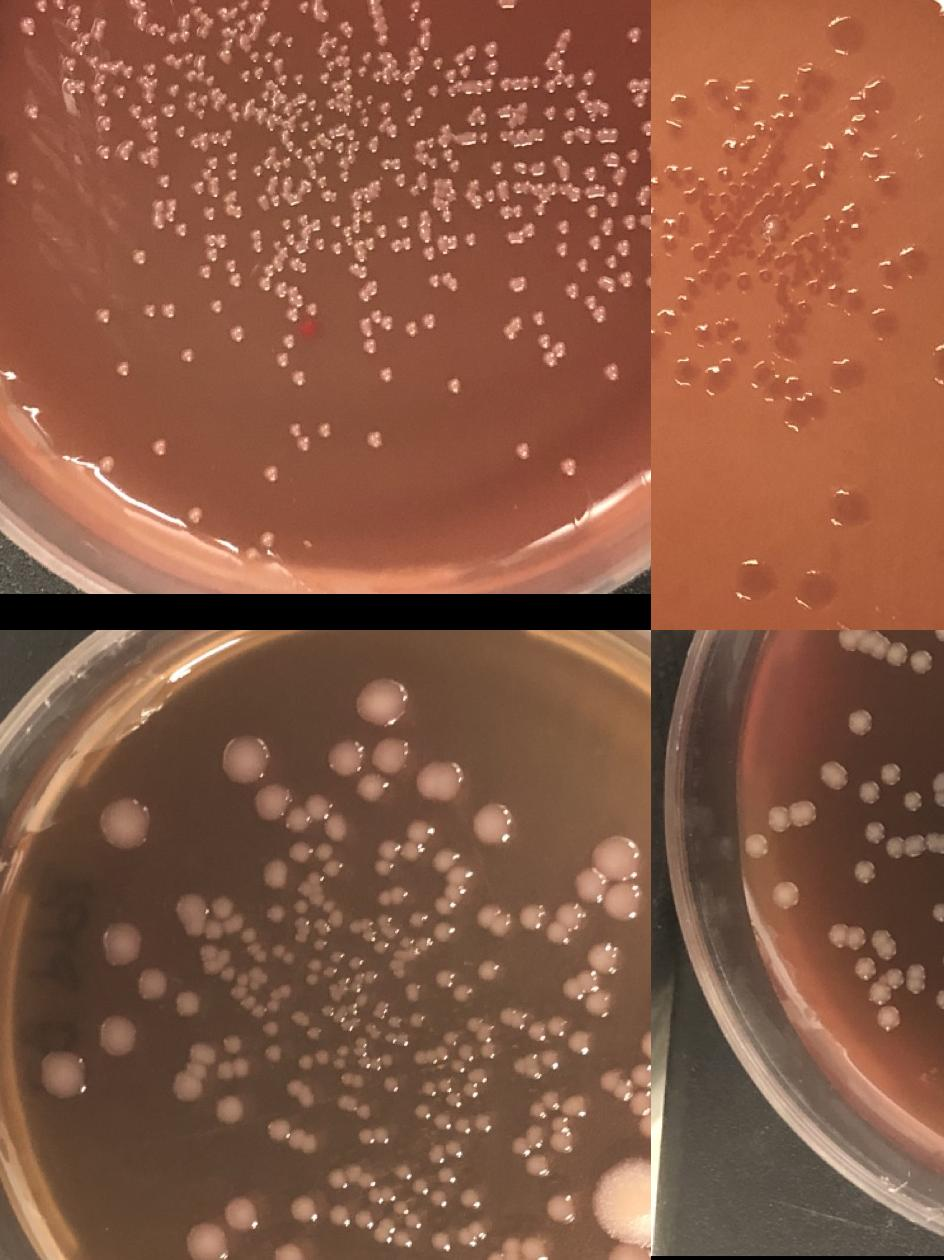assalmonicida: (528, 58, 576, 94), (858, 763, 900, 804), (443, 46, 476, 98), (216, 0, 266, 32), (208, 88, 240, 123), (826, 924, 868, 950), (366, 0, 389, 47), (272, 140, 304, 173), (435, 134, 461, 174), (244, 49, 286, 72), (162, 50, 206, 71), (150, 198, 178, 230), (907, 647, 935, 678), (846, 708, 874, 738), (772, 881, 799, 912), (202, 233, 230, 262), (306, 126, 338, 150), (166, 16, 192, 45), (626, 77, 651, 107), (184, 89, 208, 120), (850, 858, 878, 884), (88, 70, 108, 106), (194, 10, 216, 40), (352, 237, 376, 263), (468, 189, 496, 210), (542, 342, 566, 366), (459, 78, 495, 94), (426, 272, 458, 290), (875, 938, 899, 962), (901, 834, 925, 857), (744, 834, 768, 857), (368, 309, 394, 330), (281, 179, 301, 206), (868, 982, 891, 1005), (854, 957, 877, 980), (900, 790, 924, 812), (862, 822, 886, 844), (132, 17, 159, 36), (294, 213, 322, 231), (258, 263, 276, 291), (222, 259, 240, 287), (404, 106, 426, 128), (71, 30, 91, 54), (386, 236, 414, 253), (237, 66, 263, 84), (274, 73, 304, 88), (514, 162, 542, 178), (143, 113, 158, 142), (116, 137, 134, 160), (66, 1, 80, 30), (255, 108, 275, 128), (344, 128, 362, 150), (200, 158, 218, 180), (60, 79, 86, 94), (276, 92, 294, 113), (498, 206, 524, 220), (358, 281, 376, 301), (354, 93, 376, 109), (336, 158, 350, 183), (248, 228, 262, 253), (550, 156, 569, 174), (376, 158, 402, 171), (348, 263, 368, 279), (338, 19, 354, 39), (932, 989, 944, 1015), (47, 0, 79, 8), (350, 190, 362, 210), (554, 221, 569, 235), (531, 128, 546, 142), (531, 310, 546, 324), (216, 51, 231, 65), (183, 68, 198, 82), (156, 175, 171, 189), (625, 29, 639, 43), (625, 149, 639, 163), (622, 215, 636, 229), (617, 272, 631, 286), (614, 242, 628, 256), (603, 366, 617, 380), (600, 221, 614, 235), (598, 276, 612, 290), (592, 308, 606, 322), (586, 236, 600, 250), (582, 68, 596, 82), (582, 295, 596, 309), (580, 167, 594, 181), (575, 258, 589, 272), (566, 285, 580, 299), (564, 188, 578, 202), (562, 461, 576, 475), (553, 242, 567, 256), (542, 106, 556, 120), (536, 334, 550, 348), (521, 224, 535, 238), (508, 278, 522, 292), (506, 232, 520, 246), (497, 79, 511, 93), (484, 60, 498, 74), (483, 42, 497, 56), (447, 380, 461, 394), (444, 236, 458, 250), (396, 215, 410, 229), (392, 174, 406, 188), (378, 368, 392, 382), (376, 100, 390, 114), (376, 50, 390, 64), (362, 339, 376, 353), (360, 210, 374, 224), (328, 214, 342, 228), (328, 241, 342, 255), (316, 72, 330, 86), (298, 180, 312, 194), (294, 0, 308, 14), (287, 292, 301, 306), (284, 232, 298, 246), (284, 308, 298, 322), (280, 334, 294, 348), (278, 217, 292, 231), (273, 284, 287, 298), (266, 32, 280, 46), (255, 192, 269, 206), (248, 164, 262, 178), (226, 167, 240, 181), (224, 151, 238, 165), (209, 300, 223, 314), (198, 265, 212, 279), (173, 124, 187, 138), (173, 223, 187, 237), (162, 103, 176, 117), (162, 304, 176, 318), (132, 250, 146, 264), (127, 104, 141, 118), (120, 64, 134, 78), (96, 117, 110, 131), (63, 58, 77, 72), (24, 106, 38, 120), (20, 20, 34, 34), (531, 203, 546, 216), (373, 224, 386, 239), (585, 206, 599, 219), (562, 108, 576, 121), (464, 232, 477, 246), (422, 246, 435, 260), (422, 314, 435, 328), (406, 183, 420, 196), (291, 372, 305, 385), (282, 35, 296, 48), (234, 35, 248, 48), (223, 203, 237, 216), (201, 208, 215, 221), (141, 303, 155, 316), (112, 84, 126, 97), (33, 0, 47, 13), (490, 162, 505, 174), (476, 132, 491, 144), (427, 157, 440, 170), (404, 323, 417, 336), (304, 303, 317, 316), (606, 192, 618, 206), (604, 154, 618, 166), (603, 256, 617, 268), (575, 90, 589, 102), (560, 132, 574, 144), (515, 446, 529, 458), (429, 58, 443, 70), (419, 18, 433, 30), (418, 232, 432, 244), (401, 88, 415, 100), (368, 432, 380, 446), (365, 138, 379, 150), (358, 116, 372, 128), (354, 66, 368, 78), (336, 43, 350, 55), (322, 99, 336, 111), (316, 423, 330, 435), (312, 239, 326, 251), (288, 258, 302, 270), (273, 354, 287, 366), (262, 468, 276, 480), (228, 328, 242, 340), (188, 508, 202, 520), (187, 136, 201, 148), (178, 350, 192, 362), (166, 84, 180, 96), (150, 442, 164, 454), (142, 62, 156, 74), (91, 18, 105, 30), (639, 185, 651, 198), (440, 210, 453, 222), (427, 84, 440, 96), (340, 226, 353, 238), (640, 121, 651, 135), (257, 0, 271, 11), (416, 169, 428, 181), (386, 126, 398, 138), (360, 51, 372, 63), (332, 141, 344, 153), (324, 59, 336, 71), (320, 190, 332, 202), (316, 45, 328, 57), (315, 10, 327, 22), (315, 176, 327, 188), (306, 98, 318, 110), (298, 120, 310, 132), (296, 438, 308, 450), (288, 424, 300, 436), (265, 145, 277, 157), (262, 533, 274, 545), (222, 128, 234, 140), (202, 74, 214, 86), (193, 182, 205, 194), (137, 152, 149, 164), (116, 364, 128, 376), (101, 457, 113, 469), (97, 147, 109, 159), (96, 310, 108, 322), (6, 172, 18, 184), (313, 114, 324, 126), (313, 151, 324, 163), (933, 630, 944, 642), (644, 275, 651, 288), (184, 0, 198, 3)
pddamselae: (571, 834, 644, 921), (181, 1196, 259, 1260), (285, 812, 349, 879), (372, 815, 434, 877), (353, 738, 409, 804), (96, 794, 154, 852), (252, 783, 310, 836), (354, 676, 410, 726), (218, 733, 270, 785), (36, 1049, 88, 1101), (466, 802, 516, 849), (509, 1123, 550, 1180), (96, 920, 144, 968), (413, 758, 463, 804), (264, 1118, 320, 1158), (418, 1076, 481, 1110), (426, 1138, 466, 1187), (526, 1090, 588, 1121), (96, 1015, 140, 1056), (346, 916, 388, 956), (473, 902, 514, 939), (434, 968, 474, 1004), (329, 739, 366, 777), (626, 1091, 651, 1145), (410, 1176, 448, 1210), (392, 1210, 424, 1250), (526, 1012, 568, 1042), (432, 881, 466, 918), (544, 1191, 580, 1225), (586, 940, 620, 975), (580, 986, 616, 1019), (135, 967, 168, 1003), (170, 1069, 204, 1103), (238, 927, 268, 964), (335, 1095, 373, 1122), (511, 1234, 548, 1260), (288, 1194, 318, 1226), (213, 1094, 242, 1126), (270, 1239, 312, 1260), (214, 1058, 250, 1082), (606, 1242, 651, 1260), (294, 1049, 329, 1072), (172, 992, 200, 1020), (364, 1184, 399, 1206), (356, 1126, 392, 1147), (412, 1046, 449, 1066), (374, 884, 406, 907), (548, 1130, 576, 1156), (517, 904, 545, 930), (567, 1028, 594, 1054), (544, 922, 571, 948), (208, 894, 234, 920), (250, 999, 279, 1019), (629, 1063, 651, 1089), (270, 944, 296, 965), (303, 958, 322, 986), (328, 1204, 352, 1226), (324, 1168, 347, 1190), (637, 1027, 651, 1063), (477, 960, 499, 982), (472, 1112, 494, 1134), (457, 1188, 479, 1210), (434, 922, 456, 944), (431, 1110, 453, 1132), (353, 1210, 375, 1232), (428, 1232, 452, 1252), (265, 903, 285, 925), (332, 1044, 348, 1071), (198, 942, 218, 963), (478, 1040, 498, 1060), (406, 1010, 426, 1030), (380, 1075, 400, 1095), (284, 1079, 304, 1099), (262, 1044, 282, 1064), (222, 1034, 242, 1054), (340, 1073, 364, 1089), (260, 1020, 279, 1040), (228, 983, 248, 1001), (378, 1053, 396, 1069), (310, 937, 328, 953), (448, 1058, 464, 1074), (386, 1014, 402, 1030), (346, 955, 362, 971), (306, 1026, 322, 1042), (292, 898, 308, 914), (362, 970, 378, 984), (328, 950, 344, 964), (320, 900, 335, 914)
tmaritimum: (874, 244, 934, 290), (856, 148, 902, 204), (670, 357, 735, 396), (750, 362, 804, 402), (792, 569, 834, 609), (732, 560, 773, 600), (824, 15, 864, 55), (827, 490, 867, 528), (860, 76, 898, 114), (664, 93, 696, 137), (863, 308, 901, 344), (784, 396, 824, 430), (824, 360, 860, 392), (825, 284, 863, 314), (730, 80, 759, 118), (651, 204, 686, 235), (802, 161, 834, 185), (927, 347, 944, 387), (713, 314, 739, 339), (681, 164, 708, 188), (682, 270, 710, 290), (710, 270, 732, 294), (791, 231, 817, 251), (845, 221, 867, 244), (773, 111, 796, 127), (738, 134, 756, 154), (651, 330, 663, 360), (756, 268, 774, 286), (820, 142, 836, 160), (806, 280, 822, 298), (720, 137, 736, 155), (716, 165, 732, 183), (660, 235, 676, 253), (814, 77, 830, 94), (840, 203, 858, 218), (801, 95, 816, 113), (796, 69, 811, 87), (773, 254, 788, 272), (761, 244, 776, 262), (735, 274, 750, 292), (695, 325, 710, 343), (676, 294, 691, 312), (733, 336, 748, 353), (796, 299, 810, 317), (778, 92, 792, 110), (664, 164, 678, 182), (660, 310, 674, 328), (692, 244, 706, 260), (750, 119, 765, 133), (718, 94, 733, 108), (651, 177, 662, 195), (764, 220, 778, 234), (716, 192, 730, 206), (704, 230, 718, 244), (682, 189, 696, 203)
